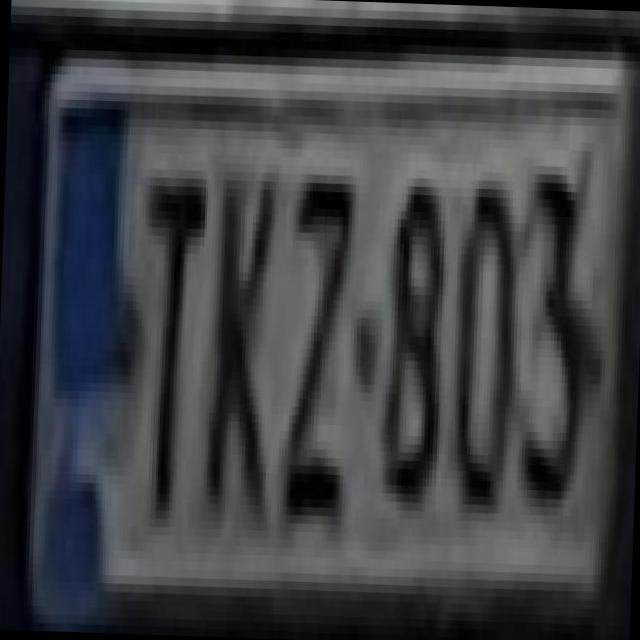0: (434, 154, 529, 506)
3: (498, 139, 612, 500)
8: (360, 160, 454, 503)
K: (190, 137, 280, 538)
T: (122, 134, 215, 520)
Z: (251, 131, 370, 550)
